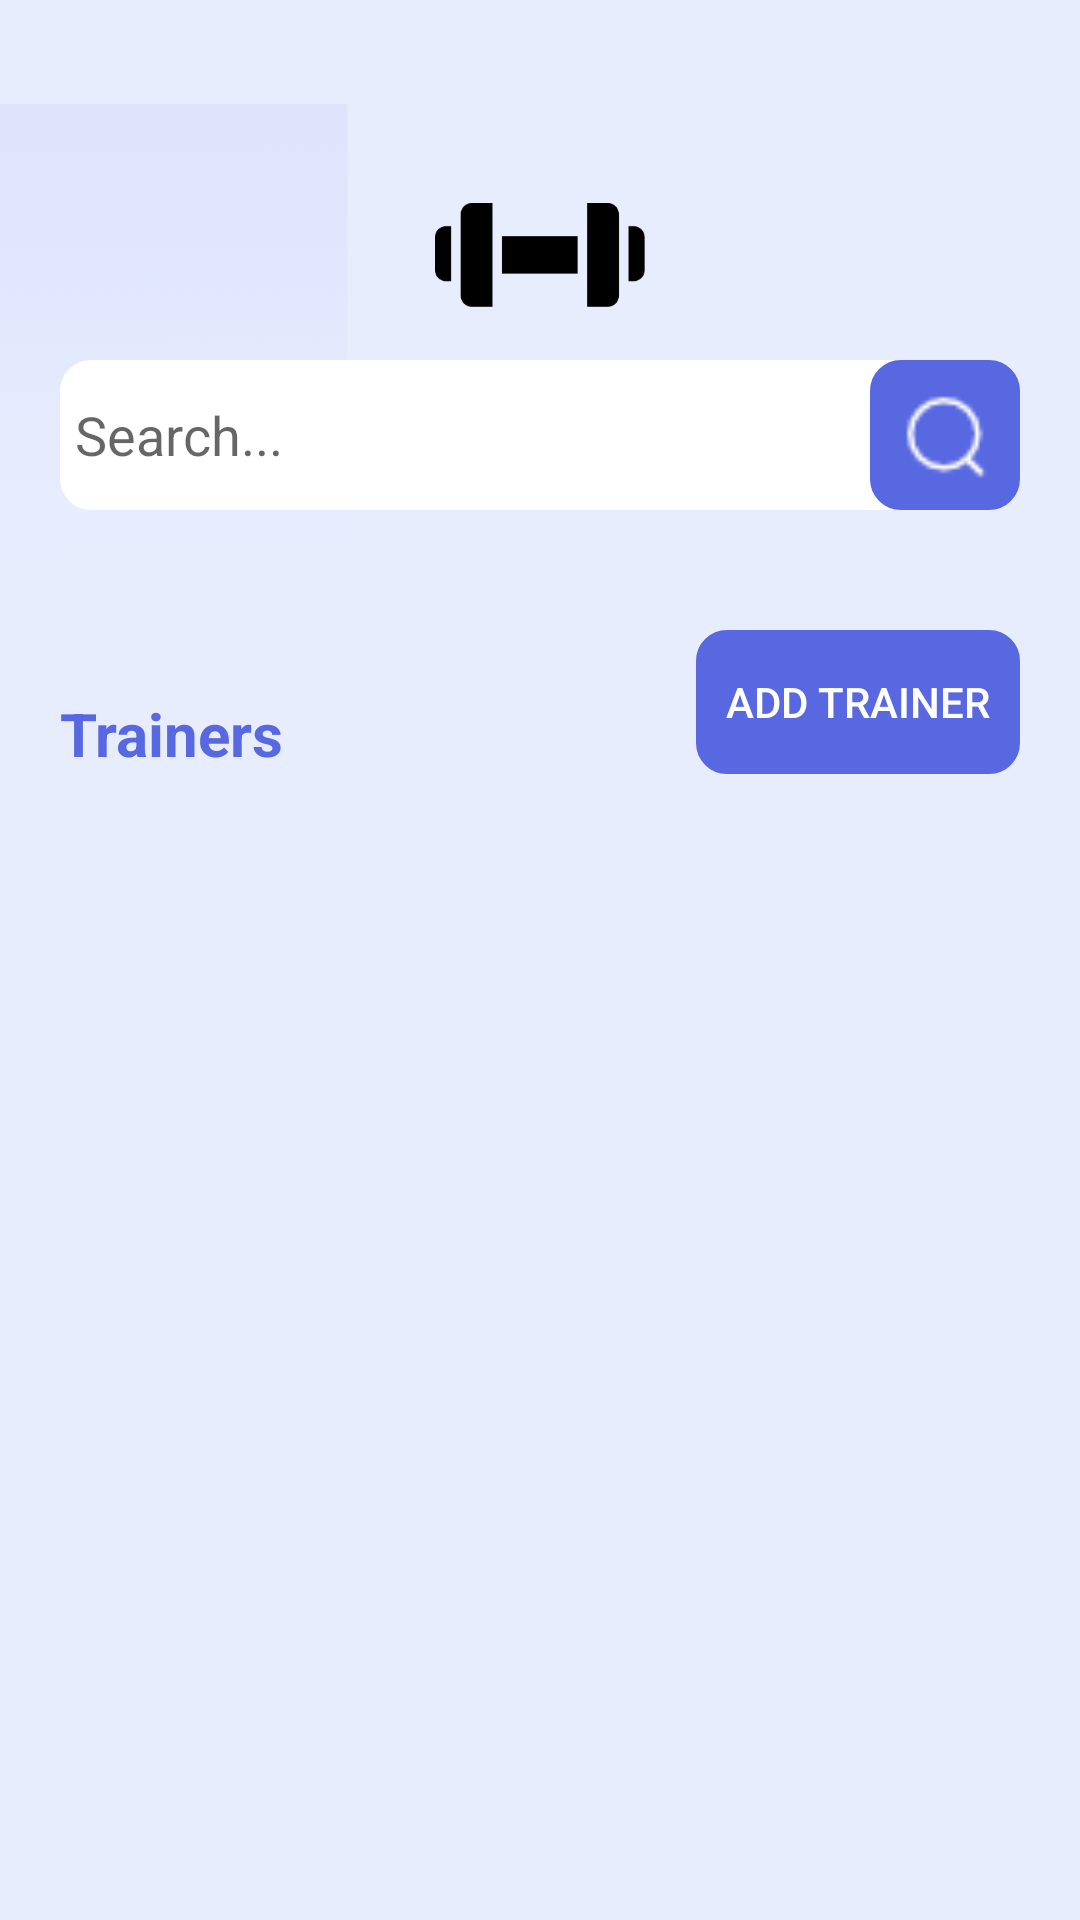

Screen size 1080px x 1920px. Icon name, then its center in pixels as [x,y]:
gym: [540,255]
searchwhite: [945,436]
